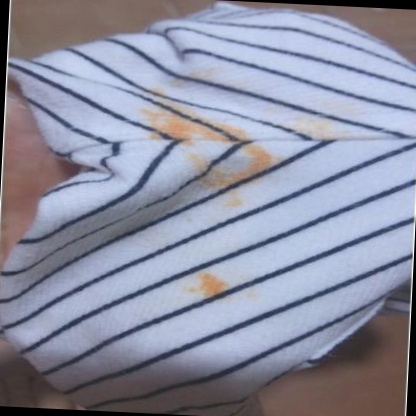kimchi: (145, 99, 243, 147), (294, 113, 348, 148), (194, 151, 241, 186), (189, 267, 231, 303), (242, 140, 281, 171), (188, 64, 227, 86), (228, 189, 249, 207), (154, 82, 169, 100)
